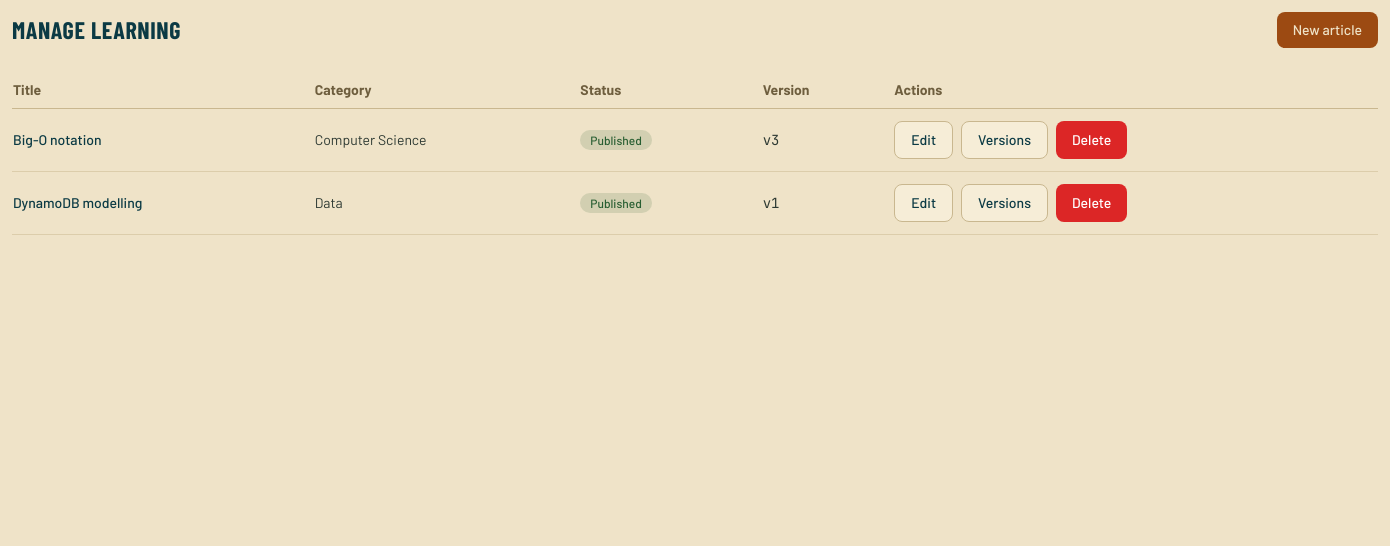
Scenario: AdminLearning › refreshes the open history with the new current version after a rollback
Expected: the text "Big-O notation" is shown, [12,108,314,172]
Click the button with aria-label "Versions of Big-O notation" at (1005, 140), box [961,121,1048,159]
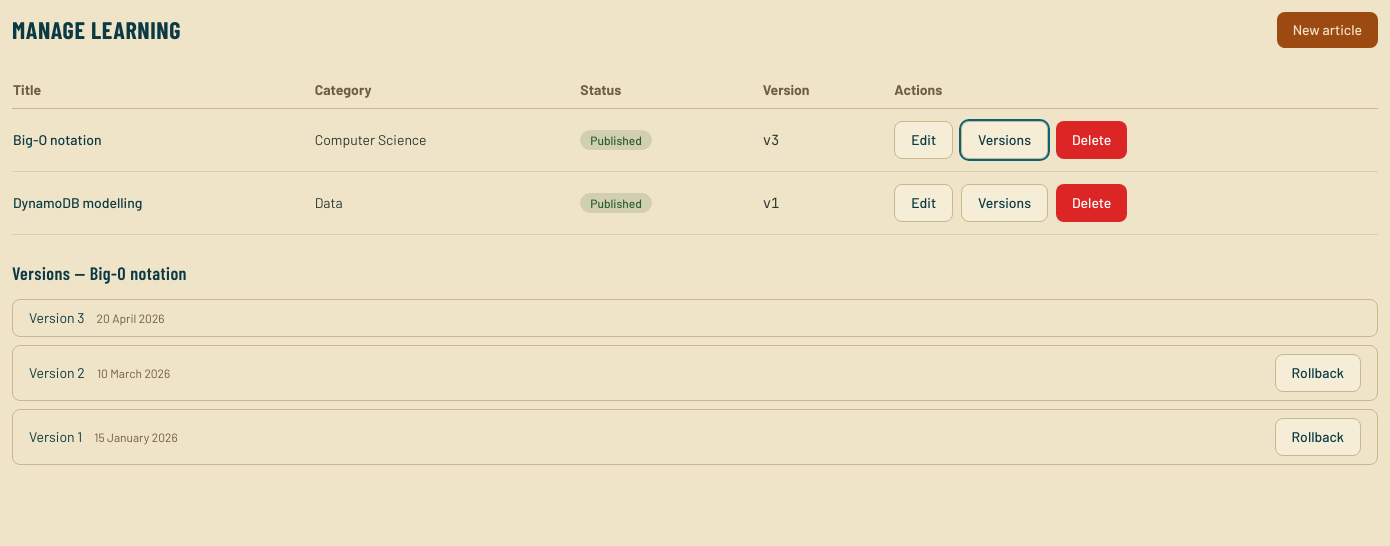
Expected: the text "Version 1" is shown, [29,428,82,445]
Click the button with aria-label "Rollback to version 2" at (1318, 373), box [1275,354,1361,392]
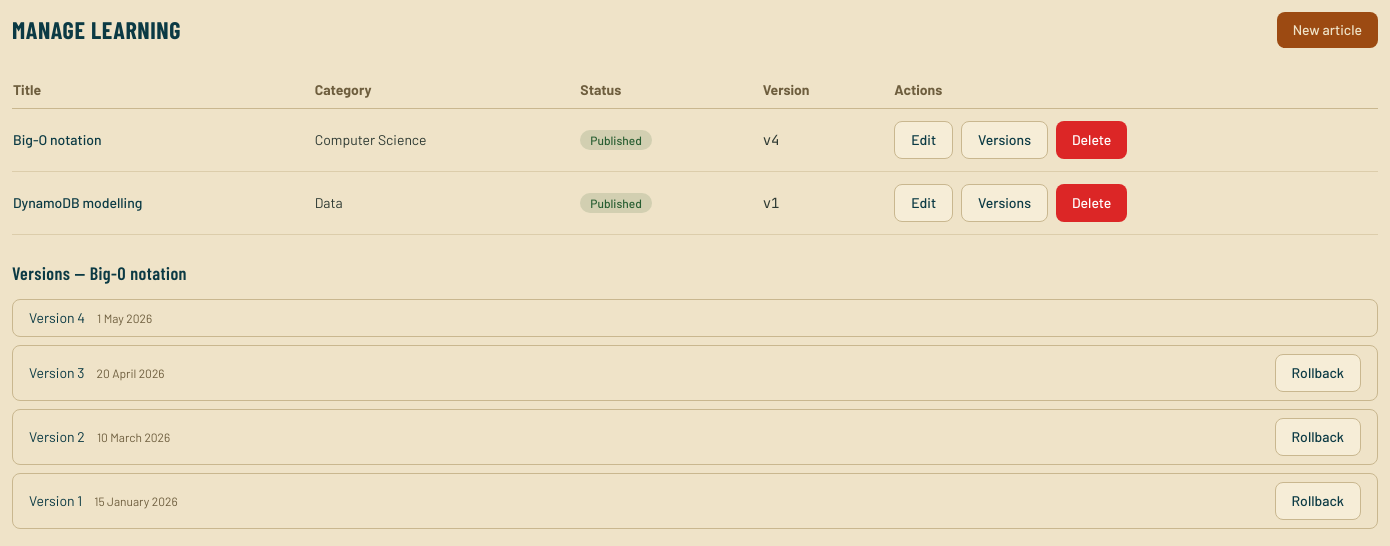
Expected: the text "v4" is shown, [762,108,893,172]
Expected: the text "Version 4" is shown, [29,309,85,326]
